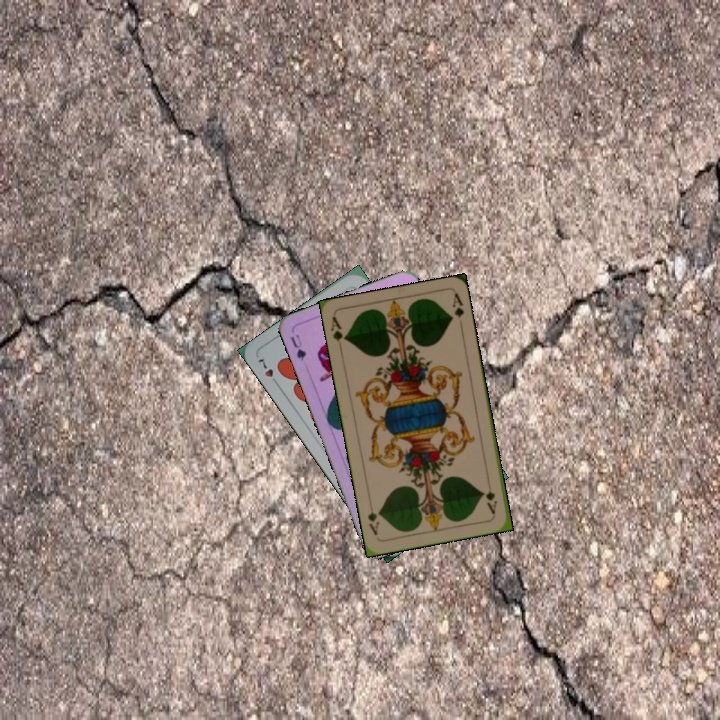GA: (327, 313, 350, 353), (481, 486, 500, 517)
GU: (286, 330, 309, 363)
H7: (254, 354, 282, 389)
